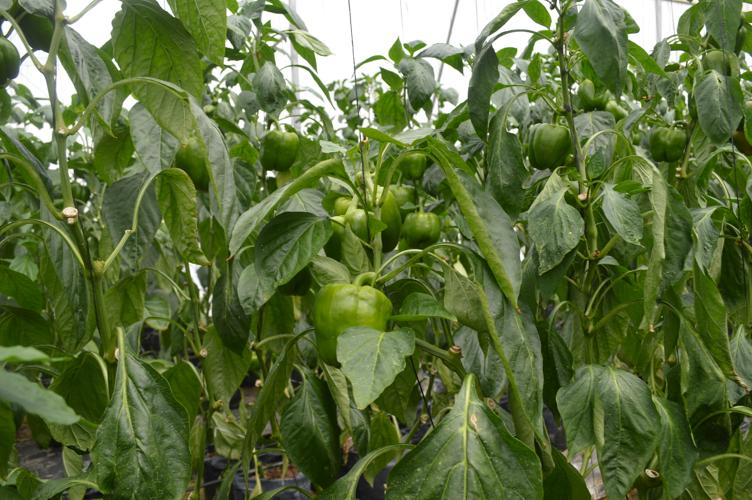BellPepper: (306, 280, 400, 374), (316, 208, 385, 280), (165, 136, 216, 197), (521, 115, 564, 176), (260, 121, 299, 178), (399, 208, 445, 256), (648, 121, 685, 168), (395, 146, 428, 189), (573, 79, 608, 110)
